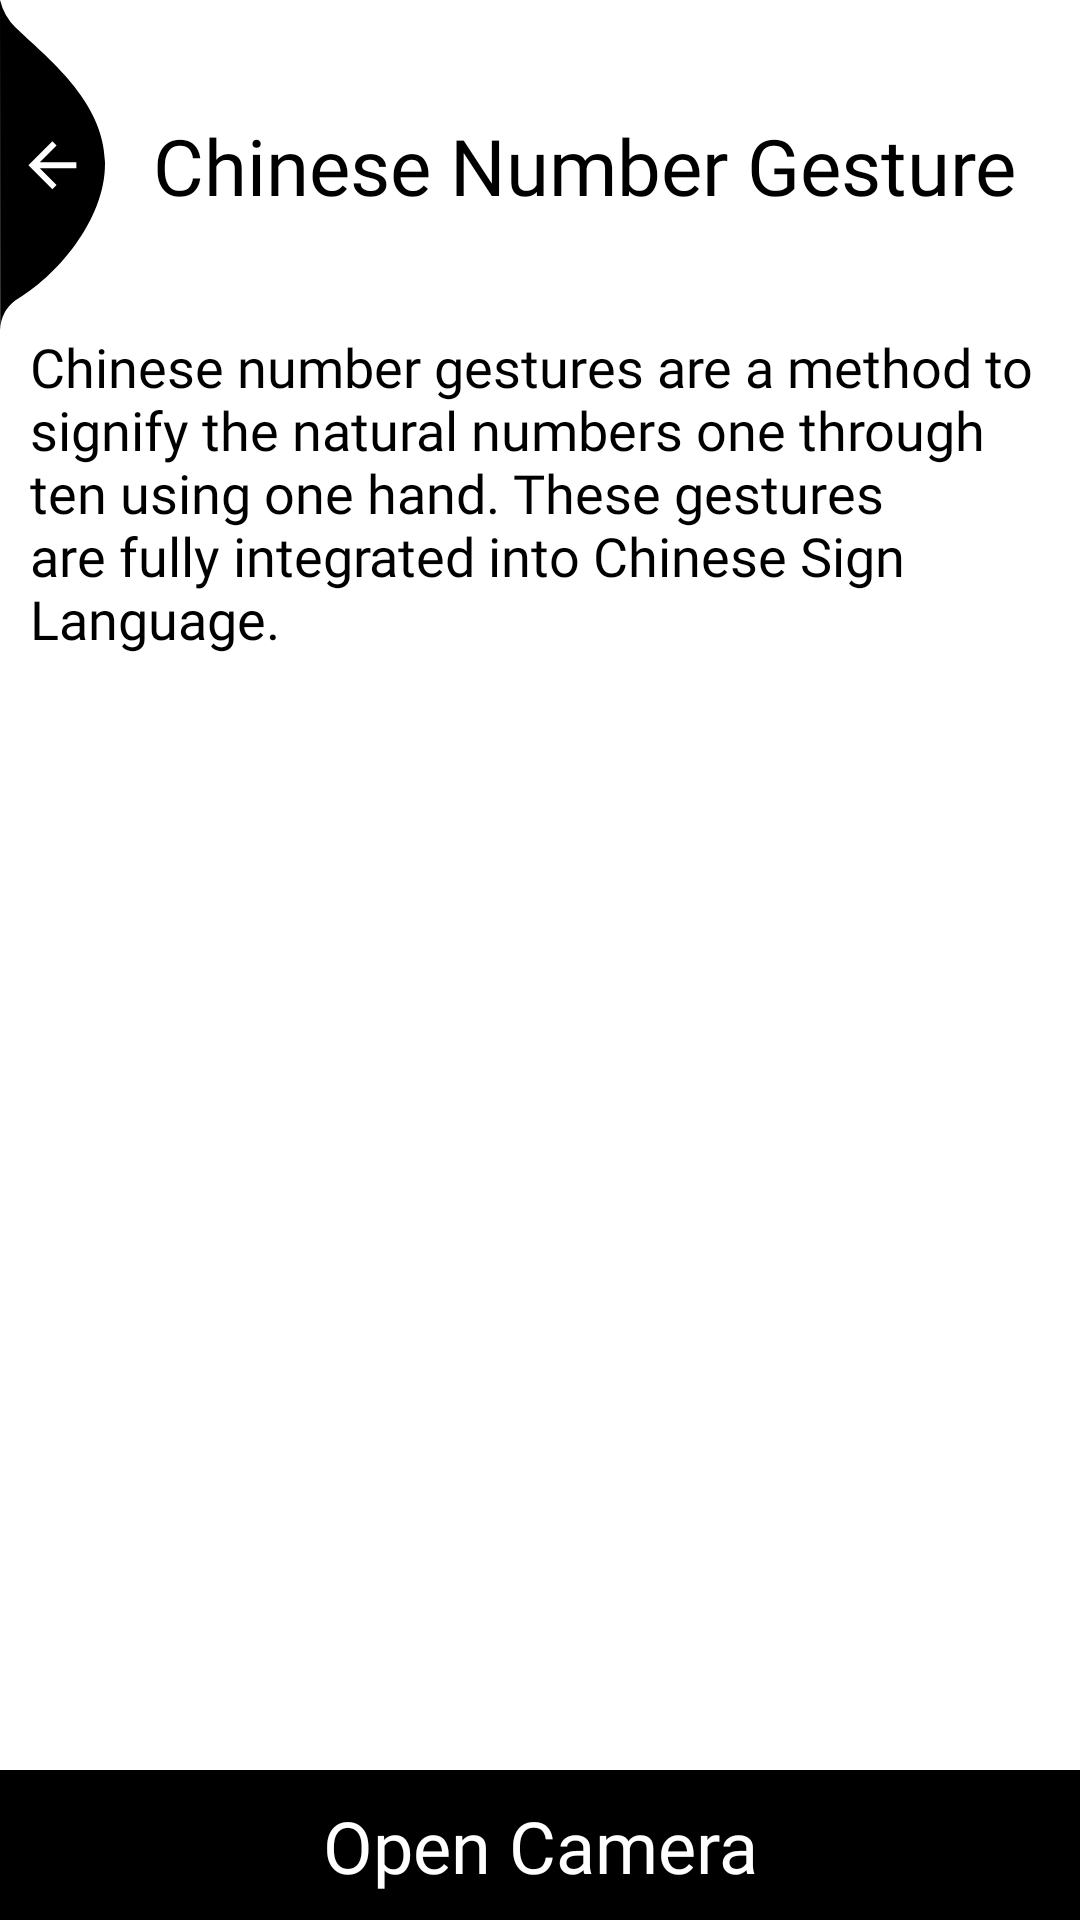

Named icons in this screenshot (1080px x 1920px) and their bounding boxes, (x1, y1, x2, y2):
back: (0, 0, 105, 329)
